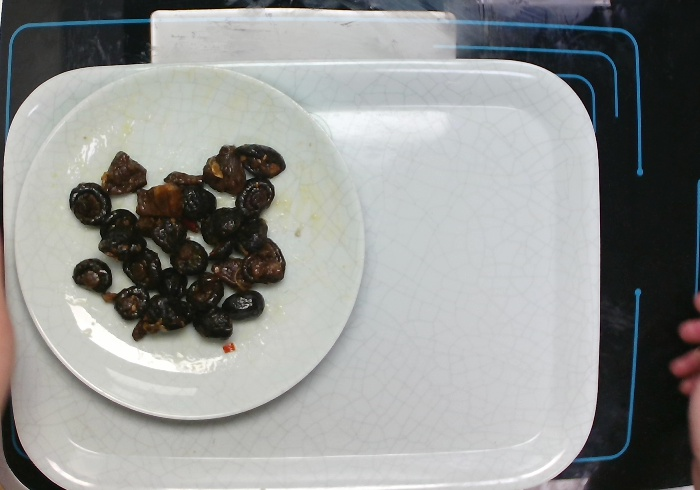JYsf-Da_Yuan_Pan: (15, 60, 369, 422)
